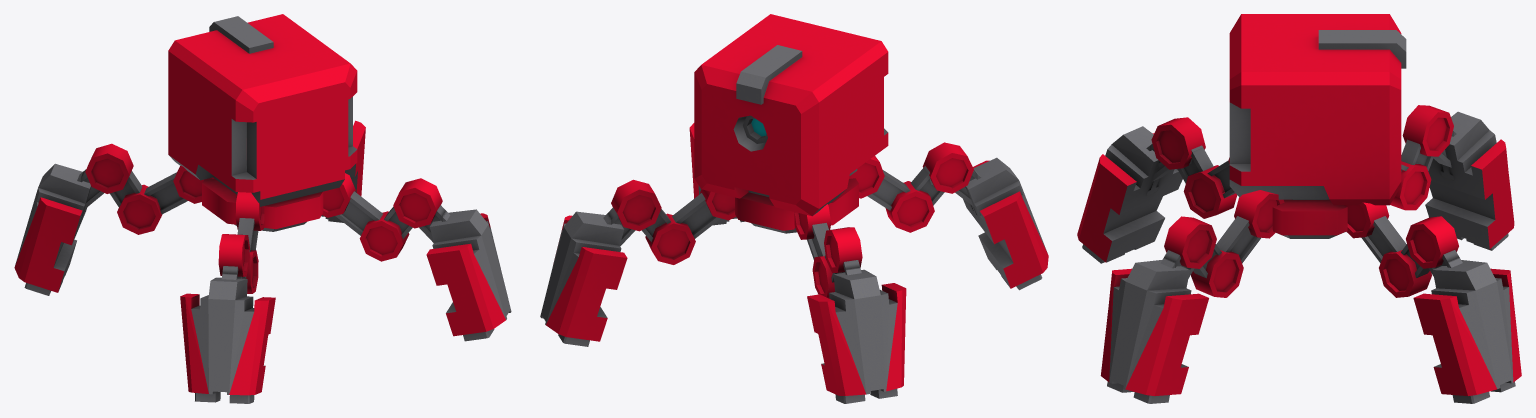
File: Monster1_Move0.obj
3 renders of one model, left to right at view 1: azimuth 30°, elevation 25°; view 2: azimuth 150°, elevation 25°; view 3: azimuth 270°, elevation 25°, orthographic. The views are drawn at different scales.
Parts seen in each view (by area): view 1: Box006, Object021, Object017, Object025, Object020, Object028, Object027, Object018, Object019, Object026, Object024, Object022 (+2 smaller); view 2: Box006, Object025, Object013, Object021, Object016, Object023, Object024, Object015, Object014, Object022, Object028, Object026 (+1 smaller); view 3: Box006, Object013, Object017, Object021, Object025, Object018, Object023, Object016, Object020, Object024, Object014, Object028 (+4 smaller).
Part boxes in pixels (box(x1,y1,x2,y2)): Box006: box(168, 14, 357, 231); Object021: box(180, 277, 275, 403); Object017: box(426, 209, 511, 341); Object025: box(14, 163, 91, 295); Object020: box(393, 178, 450, 242); Object028: box(77, 143, 133, 209); Object027: box(110, 171, 161, 234); Object018: box(322, 173, 382, 235); Object019: box(359, 207, 412, 261); Object026: box(144, 165, 214, 214); Object024: box(218, 234, 249, 279); Object022: box(235, 192, 264, 251); Box006: box(694, 14, 888, 233); Object025: box(807, 269, 906, 403); Object013: box(540, 211, 627, 346); Object021: box(963, 157, 1048, 290); Object016: box(603, 179, 661, 246); Object023: box(885, 166, 944, 232); Object024: box(922, 142, 981, 206); Object015: box(642, 209, 695, 264); Object014: box(672, 189, 735, 238); Object022: box(849, 156, 910, 210); Object028: box(824, 227, 862, 275); Object026: box(794, 204, 831, 259); Box006: box(1229, 14, 1406, 238); Object013: box(1413, 260, 1521, 403); Object017: box(1100, 259, 1208, 403); Object021: box(1077, 126, 1182, 263); Object025: box(1425, 111, 1514, 250); Object018: box(1216, 190, 1284, 263); Object023: box(1177, 145, 1237, 218); Object016: box(1406, 216, 1462, 276); Object020: box(1160, 216, 1216, 278); Object024: box(1146, 117, 1205, 181); Object014: box(1344, 202, 1406, 262); Object028: box(1402, 105, 1456, 167).
Bounding box in the file's own units: 150 × 108 × 153.
